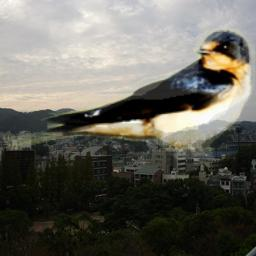Swallow: (3, 28, 255, 159)
